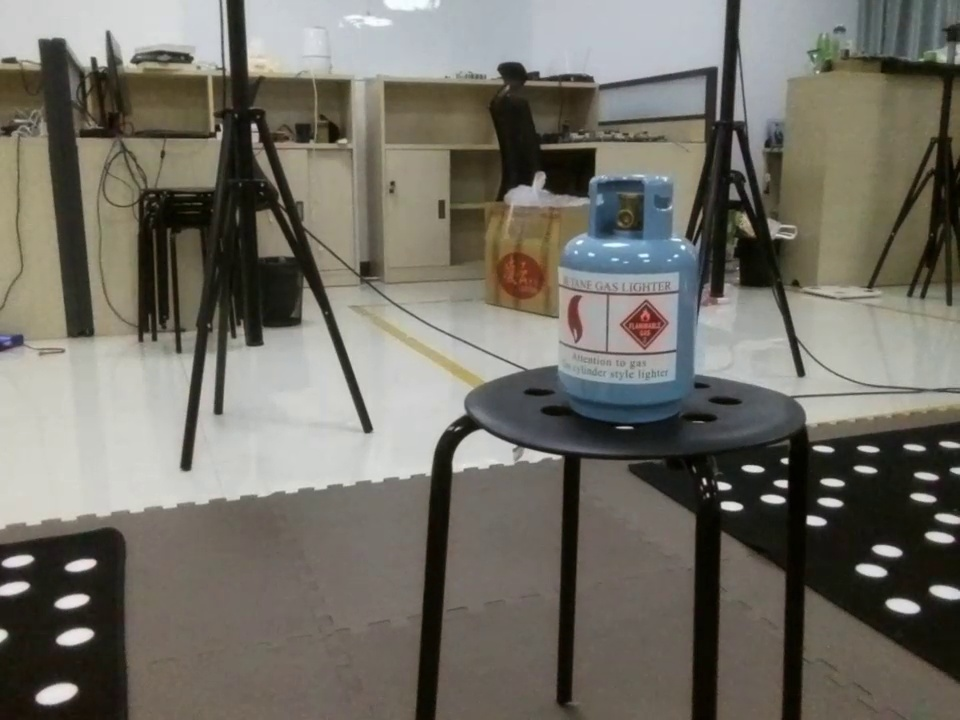gas tank: (554, 171, 705, 425)
